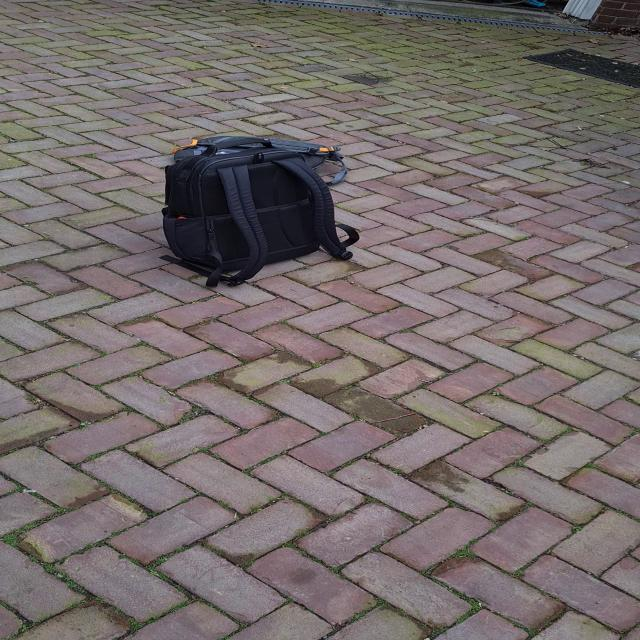backpack: (148, 127, 347, 286)
